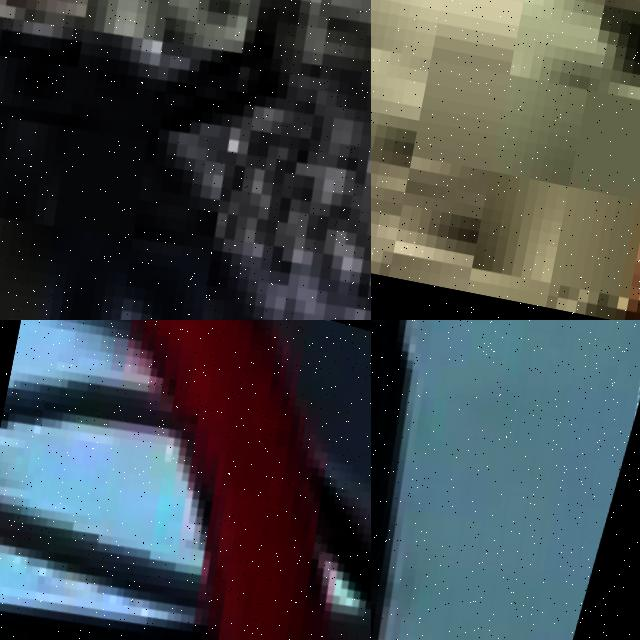drone: (0, 0, 371, 320), (0, 320, 371, 640), (371, 320, 640, 640)
